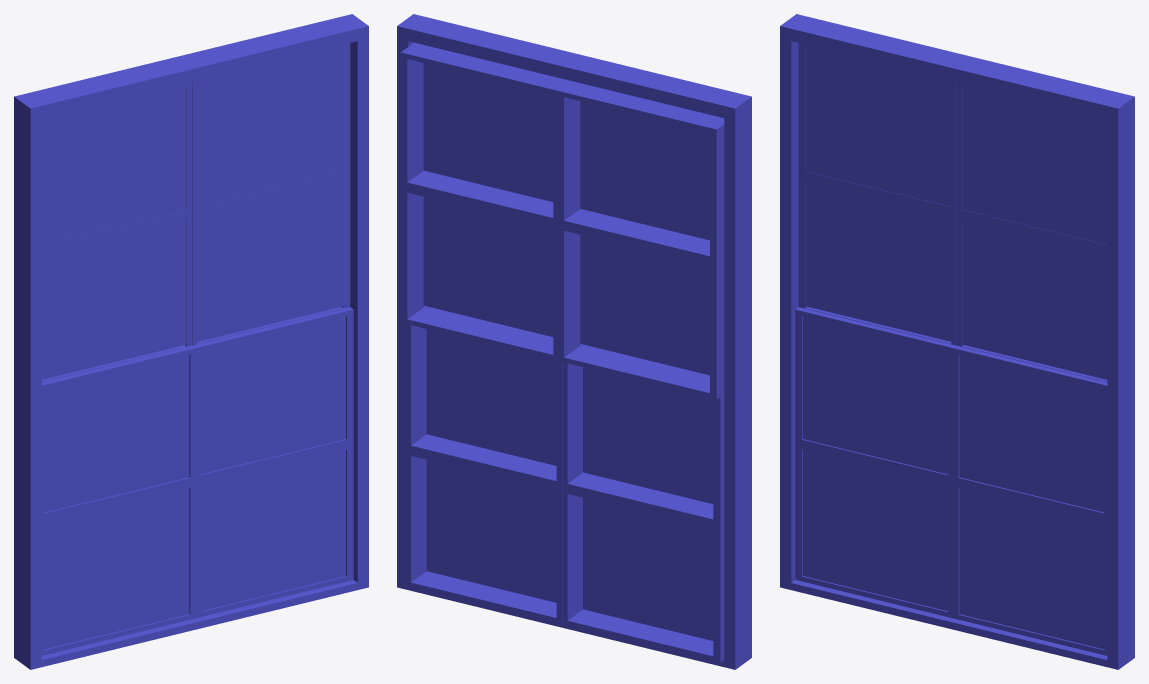
Rendered from Door.obj.
3 renders of one model, left to right at view 1: azimuth 30°, elevation 25°; view 2: azimuth 150°, elevation 25°; view 3: azimuth 330°, elevation 25°, orthographic.
Visible parts, largest first — view 1: window; view 2: window; view 3: window.
Boxes of the visible parts, x1,y1,x2,y2 form: window: [14, 14, 368, 669]; window: [397, 14, 751, 669]; window: [780, 14, 1134, 669].
Bounding box in the file's own units: 28.99 × 45.96 × 3.57.
